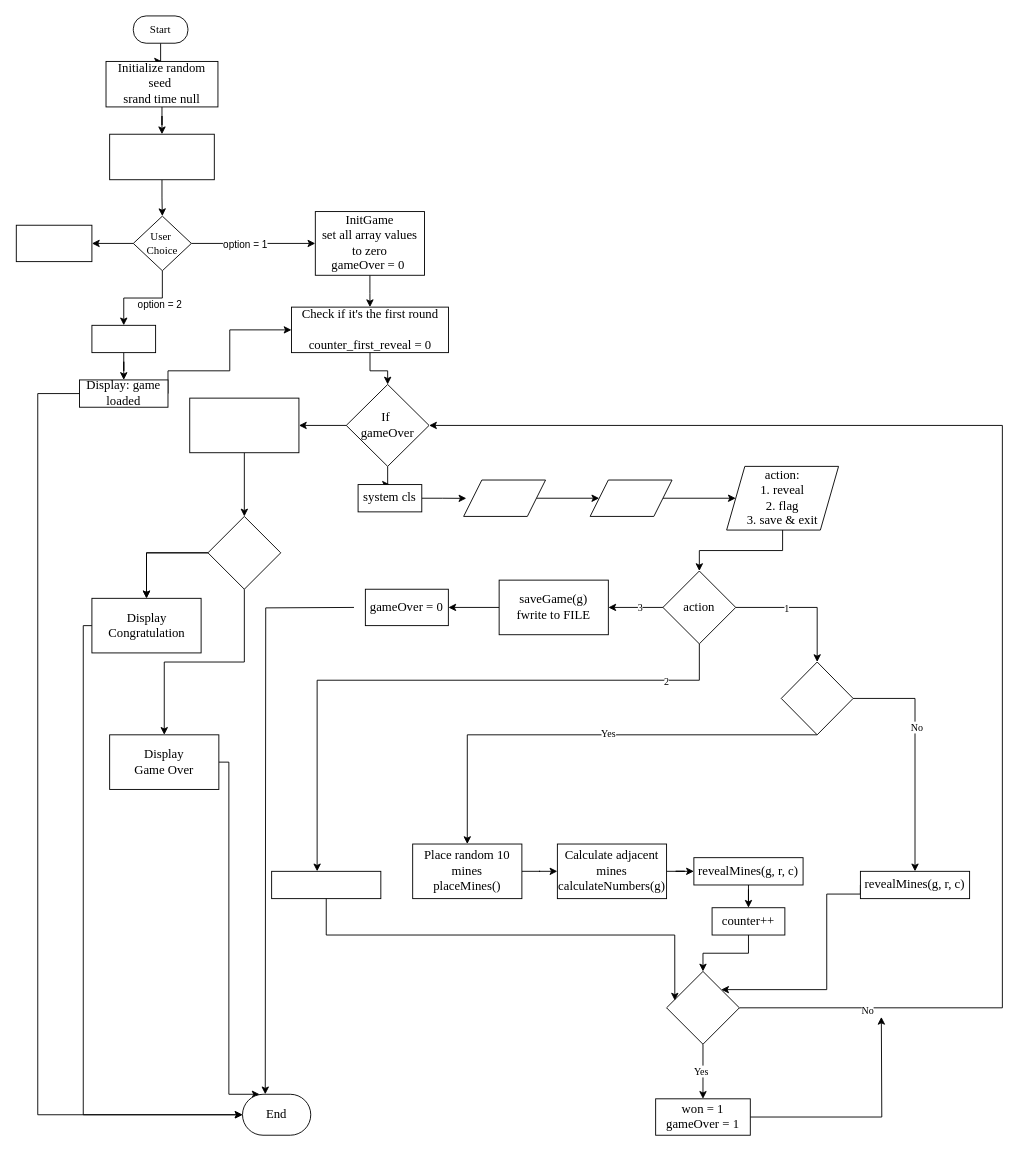
Image size: 1026x1151. Some labels were removed from this diagram. Each missing label, with the centre of its shape:
"checking(g)" goes at (702,1007).
"col (0-9)" goes at (630,497).
"counter = 0" goes at (816,698).
"Display Error message" goes at (53,243).
"Display Menu 1. New game 2. Load game" goes at (161,156).
"gameBoard(g, true)" goes at (244,425).
"Load game" goes at (123,338).
"row (0-9)" goes at (504,497).
"toggleFlag(g)" goes at (326,884).
"won" goes at (244,552).
